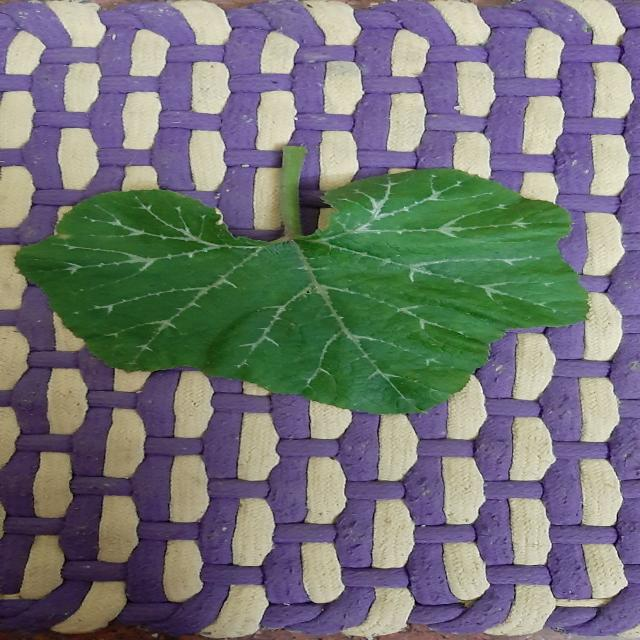pumpkin: (16, 146, 588, 414)
